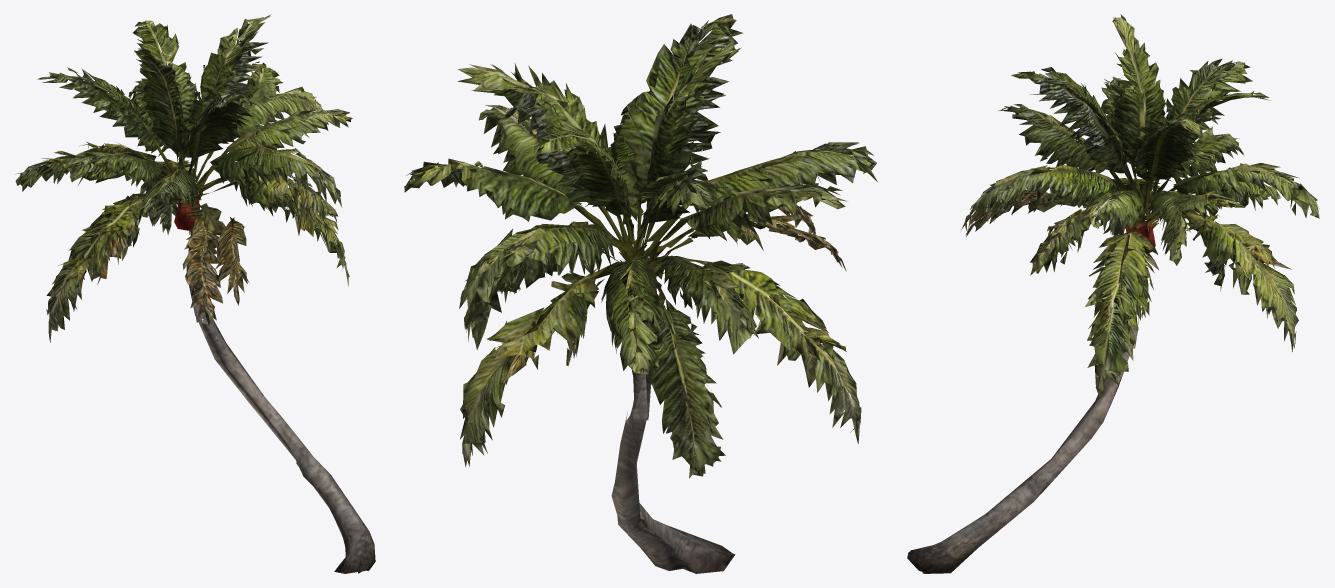
File: palm_tree_b_LOD1.fbx
3 views of the same model, side by side, from view 1: azimuth 30°, elevation 25°; view 2: azimuth 150°, elevation 25°; view 3: azimuth 270°, elevation 25° (orthographic). The views are drawn at different scales.
Visible parts, largest first — view 1: palm_tree_b.001; view 2: palm_tree_b.001; view 3: palm_tree_b.001.
Part boxes in pixels (x1,y1,x2,y2): palm_tree_b.001: [15, 14, 375, 573]; palm_tree_b.001: [404, 14, 877, 573]; palm_tree_b.001: [907, 14, 1319, 573].
Size of the model in its own units: 5.24 by 7.91 by 6.02.
1 material, 1 textured.
